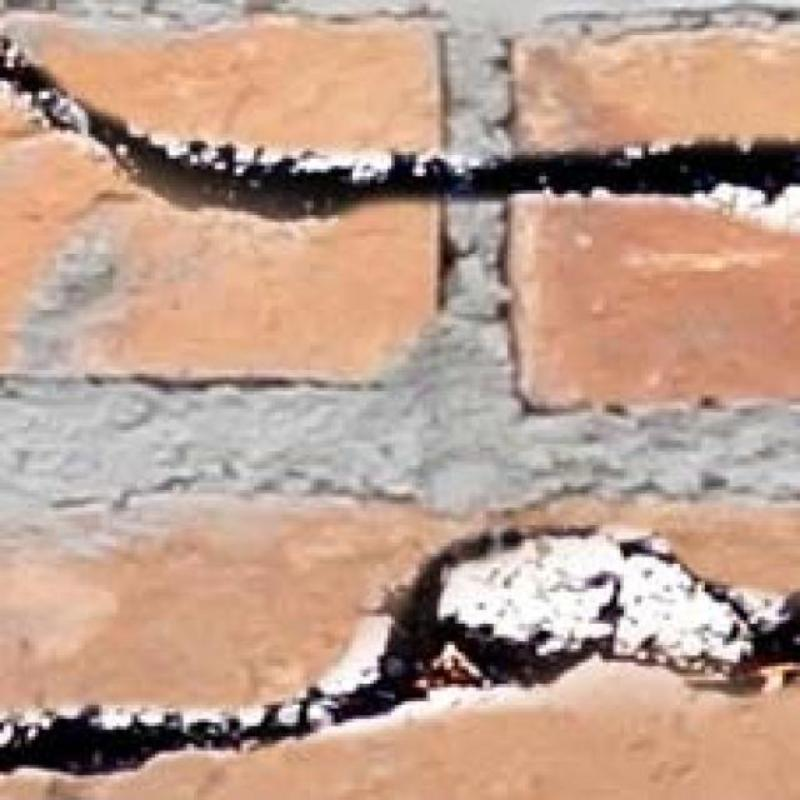crack: (0, 527, 624, 773), (0, 35, 799, 218), (618, 582, 799, 696), (620, 538, 700, 582)
